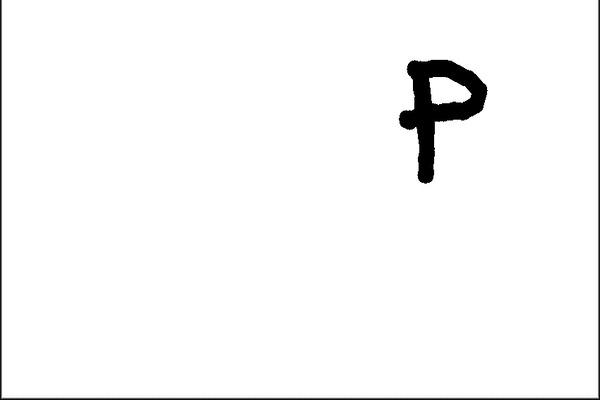P: (391, 47, 496, 193)
